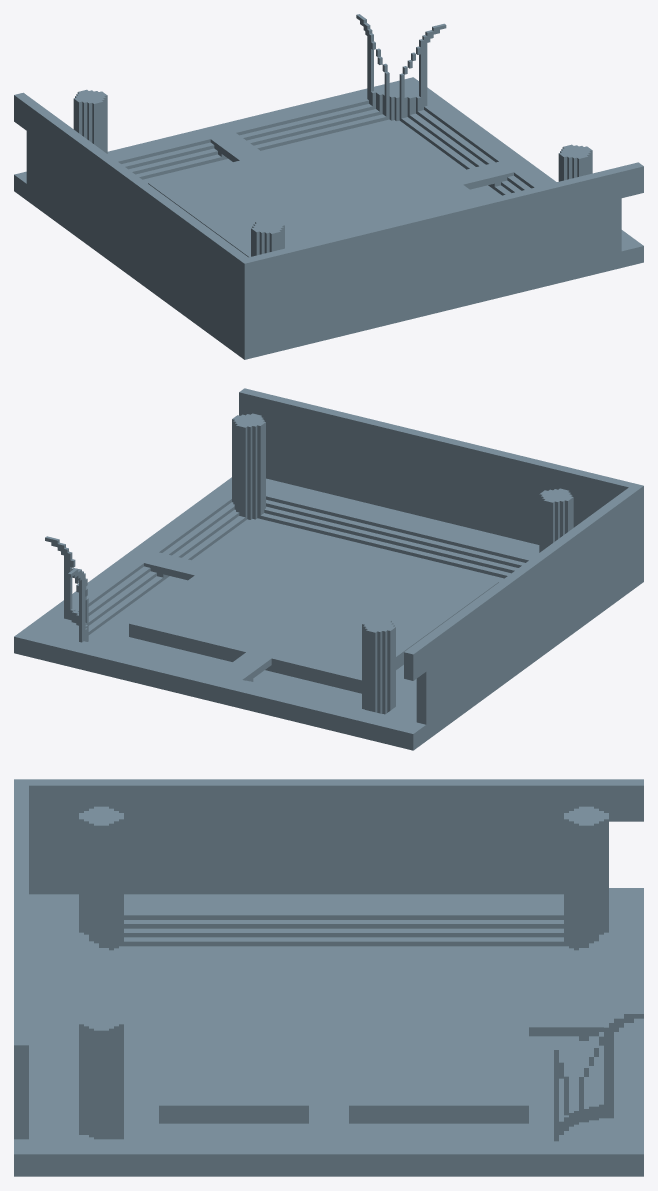
The model's file is PlaceholderRoom01-0.obj.
The picture shows the model from 3 angles, top to bottom: view 1: azimuth 30°, elevation 25°; view 2: azimuth 150°, elevation 25°; view 3: azimuth 270°, elevation 25°; orthographic projection. The views are drawn at different scales.
Size of the model in its own units: 12.6 by 2.9 by 12.6.
Materials: 1 (1 with a texture image).
